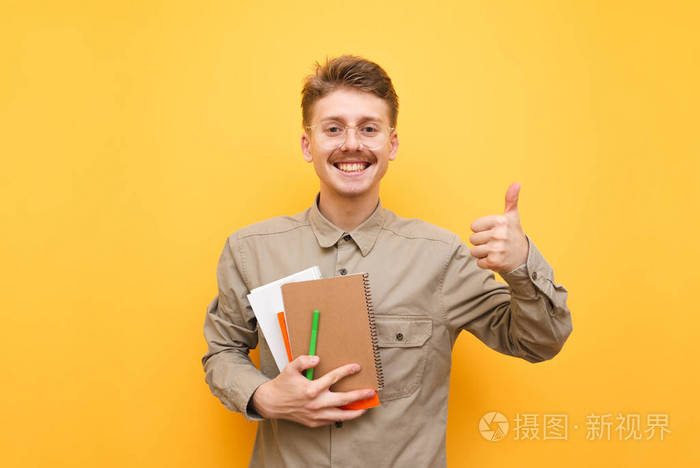no-phone: (246, 262, 392, 431), (466, 180, 529, 272)
